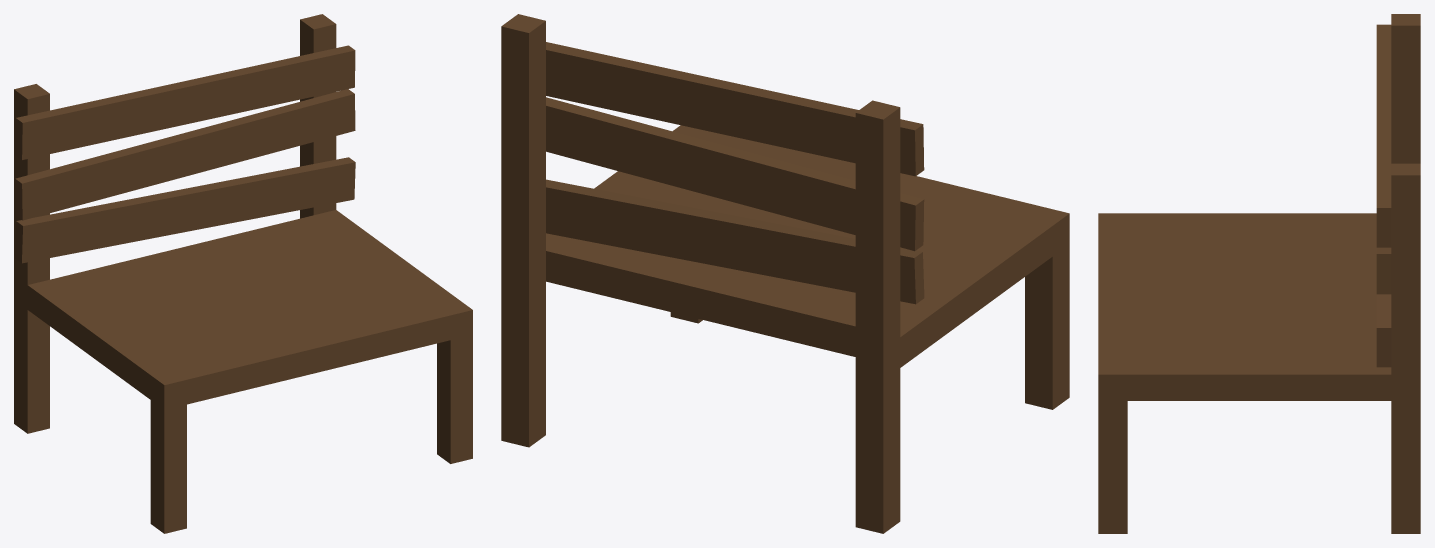
File: egypt-market-table-short.glb
The picture shows the model from 3 angles, left to right: view 1: azimuth 30°, elevation 25°; view 2: azimuth 150°, elevation 25°; view 3: azimuth 270°, elevation 25°; orthographic projection. The views are drawn at different scales.
Visible parts, largest first — view 1: egypt-market-table-short; view 2: egypt-market-table-short; view 3: egypt-market-table-short.
Boxes of the visible parts, x1,y1,x2,y2 form: egypt-market-table-short: [14, 14, 472, 533]; egypt-market-table-short: [501, 14, 1069, 533]; egypt-market-table-short: [1098, 14, 1420, 533].
Bounding box in the file's own units: 1.41 × 1.35 × 1.1.
Materials: 1 (1 with a texture image).
